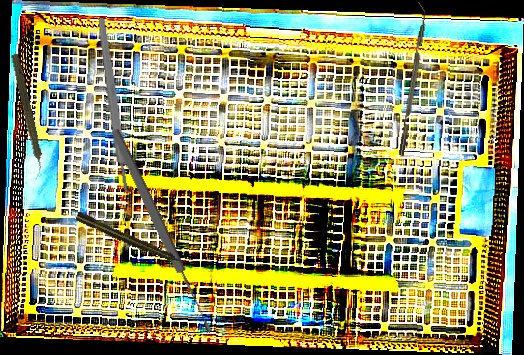Chopper: (391, 2, 431, 156)
Handpiece: (74, 210, 187, 269), (5, 52, 50, 181)
Scalpel Handle: (96, 17, 131, 193)
Surgical Spoon: (108, 126, 216, 337)
